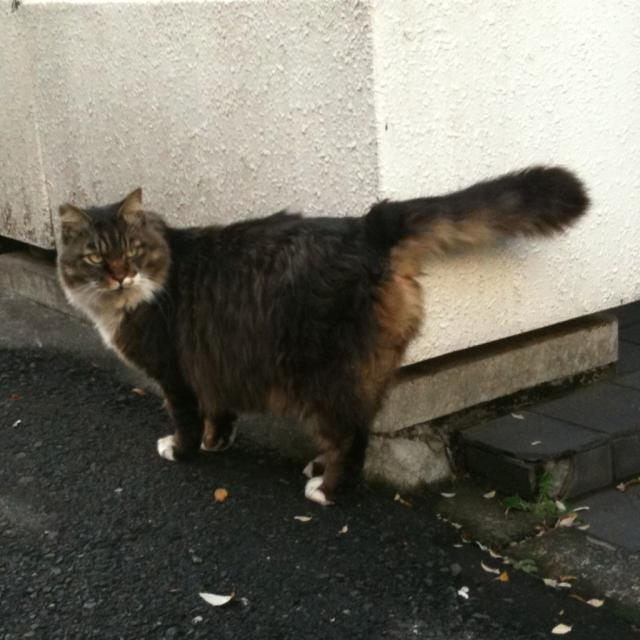Cat: (56, 163, 593, 506)
